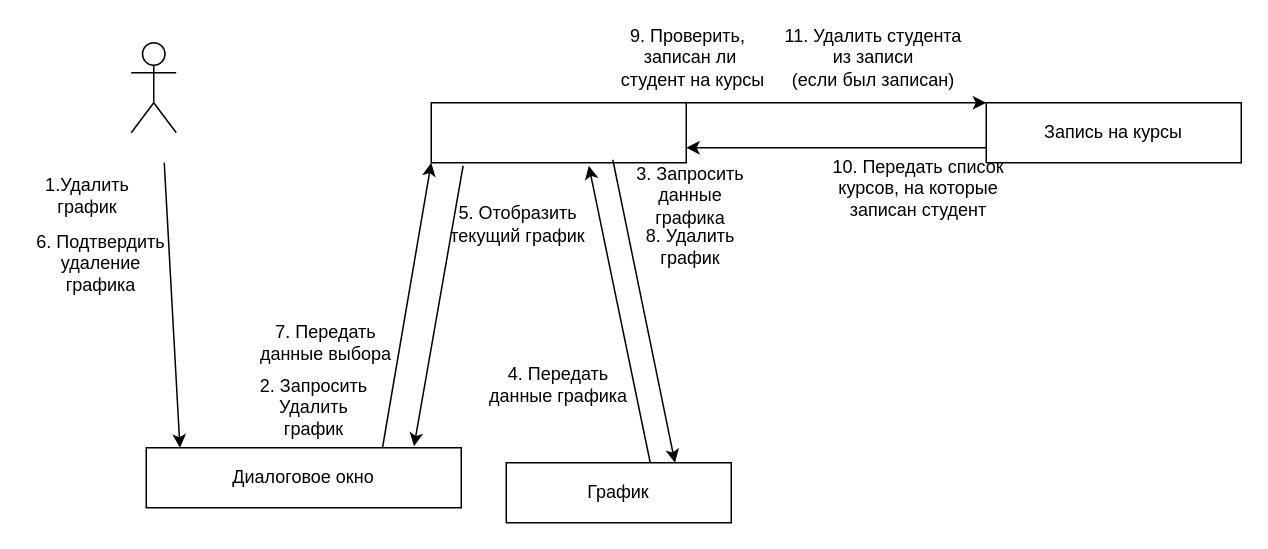
The diagram is 1268 pixels wide and 549 high, and some of its shapes have lost their labels. Here are the shapes that lost their labels. From the top down, the centre of each, then its label:
At (x=153, y=87): "Студент".
At (x=558, y=132): "Система".
